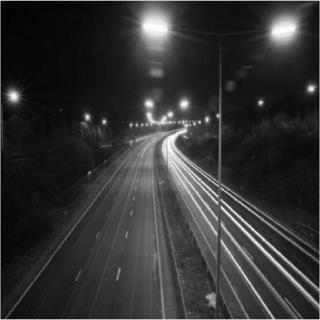other: (261, 11, 301, 48), (138, 11, 176, 43)
